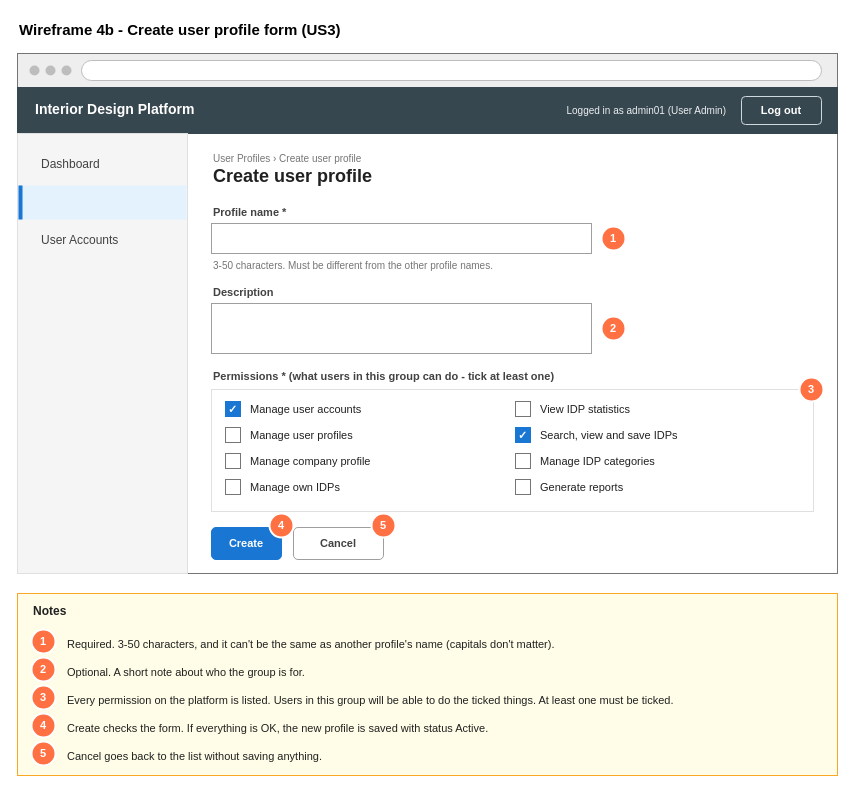
This 855x793 diagram has some shape labels left out. The shapes that lost their labels are listed below. From the top down, each one's centre as x and y in pixels, then its label:
At point 451,70: "localhost:5000/profiles/create".
At point 102,202: "User Profiles".
At point 401,238: "Customer Support".
At point 401,328: "Staff who help customers with their accounts".
